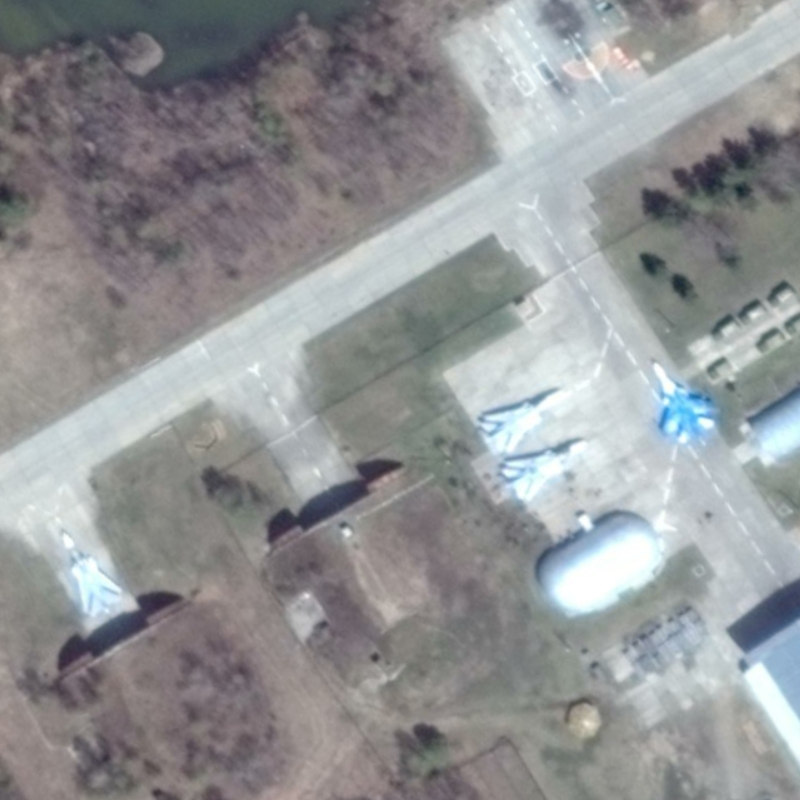A19: (649, 360, 722, 448)
A20: (478, 385, 567, 457), (500, 437, 590, 504), (59, 530, 125, 619)
